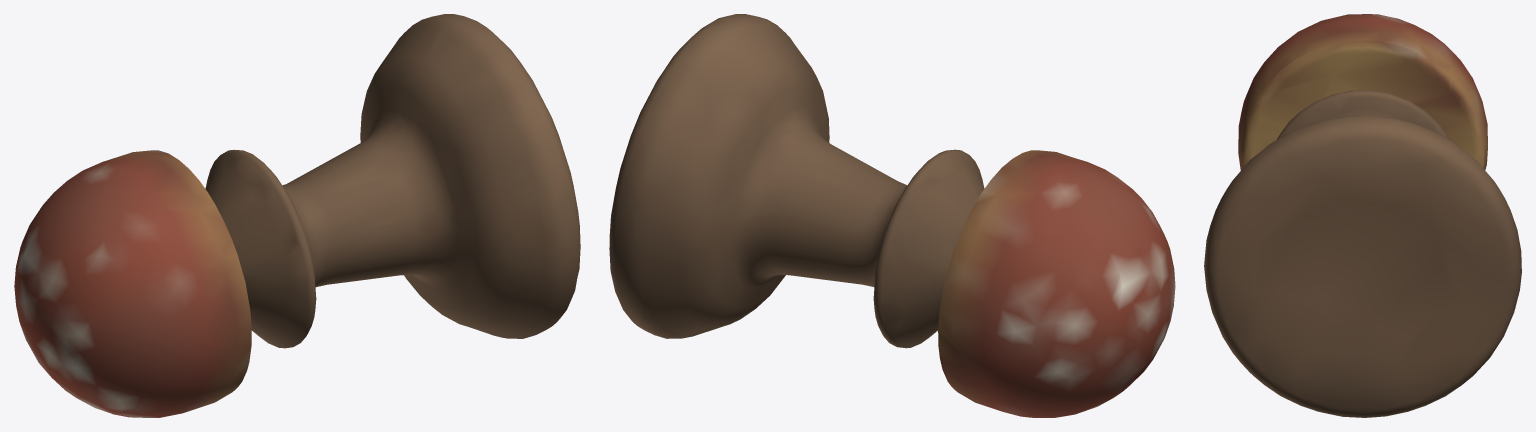
File: pawn-dark-fallen.glb
3 renders of one model, left to right at view 1: azimuth 30°, elevation 25°; view 2: azimuth 150°, elevation 25°; view 3: azimuth 270°, elevation 25°, orthographic. The views are drawn at different scales.
Parts seen in each view (by area): view 1: body; view 2: body; view 3: body.
Part boxes in pixels (<box>): body: <box>14,14,580,417</box>; body: <box>609,14,1175,417</box>; body: <box>1204,14,1521,417</box>.
Bounding box in the file's own units: 2.87 × 1.72 × 1.73.
